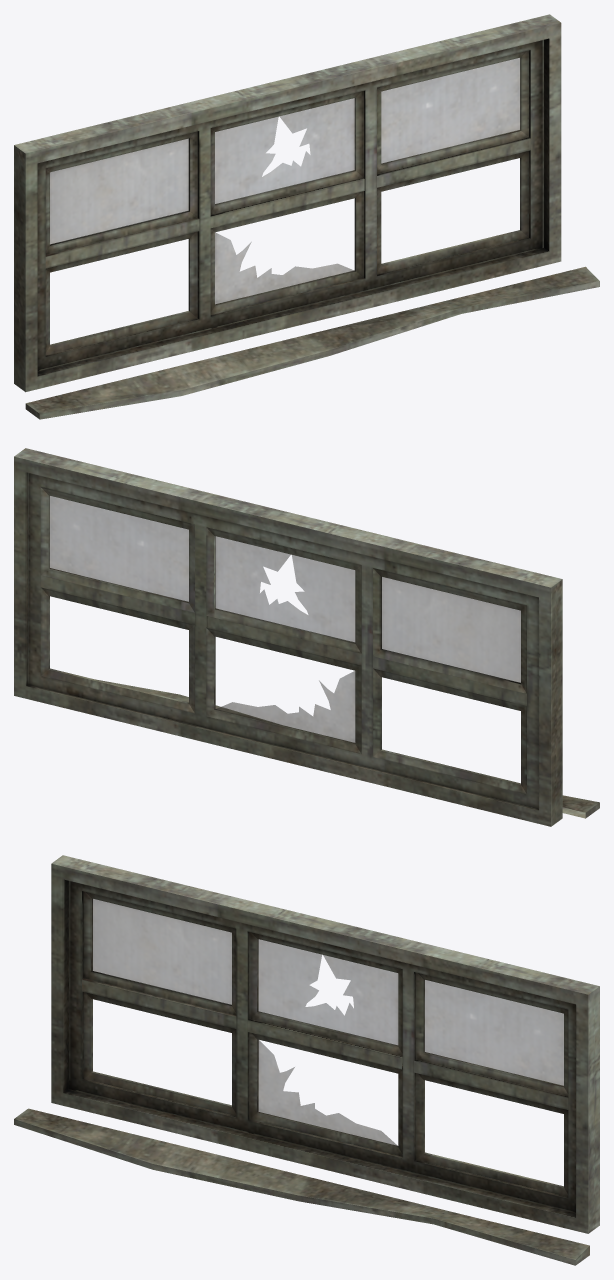
File: LobbyWindowSet.FBX
3 views of the same model, one above another, from view 1: azimuth 30°, elevation 25°; view 2: azimuth 150°, elevation 25°; view 3: azimuth 330°, elevation 25° (orthographic).
Visible parts, largest first — view 1: LobbyWindowSet; view 2: LobbyWindowSet; view 3: LobbyWindowSet.
Part boxes in pixels (box(x1,y1,x2,y2)): LobbyWindowSet: box(14, 14, 599, 419); LobbyWindowSet: box(14, 448, 599, 826); LobbyWindowSet: box(14, 855, 599, 1265).
Bounding box in the file's own units: 418 × 181 × 51.58.
2 materials, 2 textured.
